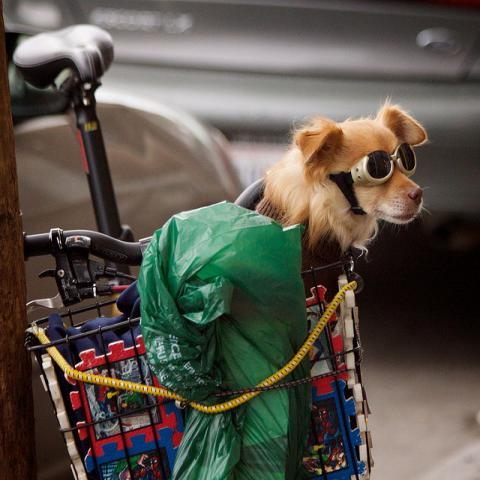car: (2, 0, 480, 224)
